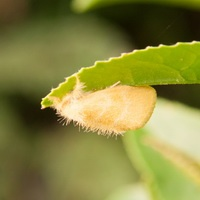insect: (41, 41, 199, 199), (41, 74, 155, 134), (72, 0, 199, 44)
